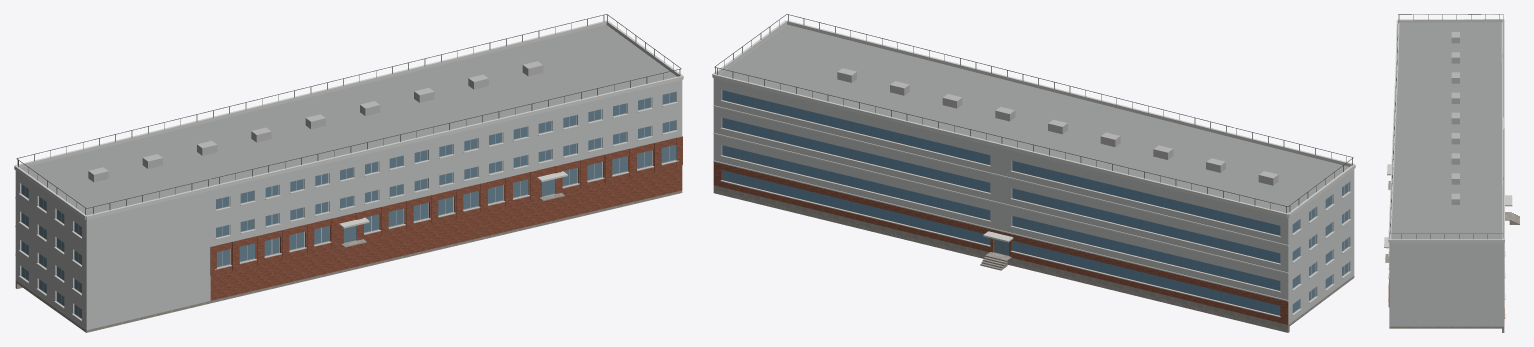
The picture shows the model from 3 angles, left to right: view 1: azimuth 30°, elevation 25°; view 2: azimuth 150°, elevation 25°; view 3: azimuth 270°, elevation 25°; orthographic projection. The views are drawn at different scales.
Visible parts, largest first — view 1: main-north__metalpanel, main-north__roof, main-north__brick, main-north__glass, main-north__cap, main-north__lightframe, main-north__sill, main-north__rail, main-north__plant, main-north__stone; view 2: main-north__metalpanel, main-north__roof, main-north__blueglass, main-north__brick, main-north__cap, main-north__sill, main-north__stone, main-north__frame, main-north__band, main-north__rail, main-north__plant, main-north__glass; view 3: main-north__roof, main-north__metalpanel, main-north__cap, main-north__plant, main-north__rail, main-north__stone, main-north__sill, main-north__step-north.
Part boxes in pixels (x1,y1,x2,y2): main-north__metalpanel: (15, 25, 682, 330); main-north__roof: (21, 25, 676, 215); main-north__brick: (210, 136, 682, 300); main-north__glass: (21, 92, 676, 318); main-north__cap: (14, 20, 683, 228); main-north__lightframe: (21, 92, 676, 318); main-north__sill: (18, 102, 678, 320); main-north__rail: (16, 14, 681, 214); main-north__plant: (88, 61, 543, 182); main-north__stone: (15, 190, 682, 332); main-north__metalpanel: (713, 25, 1354, 324); main-north__roof: (719, 24, 1349, 213); main-north__blueglass: (722, 90, 1280, 315); main-north__brick: (713, 162, 1288, 324); main-north__cap: (712, 20, 1355, 242); main-north__sill: (720, 100, 1351, 317); main-north__stone: (713, 185, 1354, 332); main-north__frame: (722, 90, 1280, 315); main-north__band: (713, 105, 1288, 301); main-north__rail: (714, 14, 1353, 213); main-north__plant: (837, 68, 1278, 185); main-north__glass: (994, 183, 1348, 312); main-north__roof: (1391, 22, 1502, 239); main-north__metalpanel: (1389, 22, 1504, 326); main-north__cap: (1384, 19, 1512, 248); main-north__plant: (1451, 32, 1459, 204); main-north__rail: (1389, 14, 1503, 238); main-north__stone: (1389, 326, 1504, 332); main-north__sill: (1388, 128, 1505, 318); main-north__step-north: (1509, 212, 1519, 224).
Bounding box in the file's own units: 87.54 × 18.28 × 22.75.
Materials: 14 (3 with a texture image).
